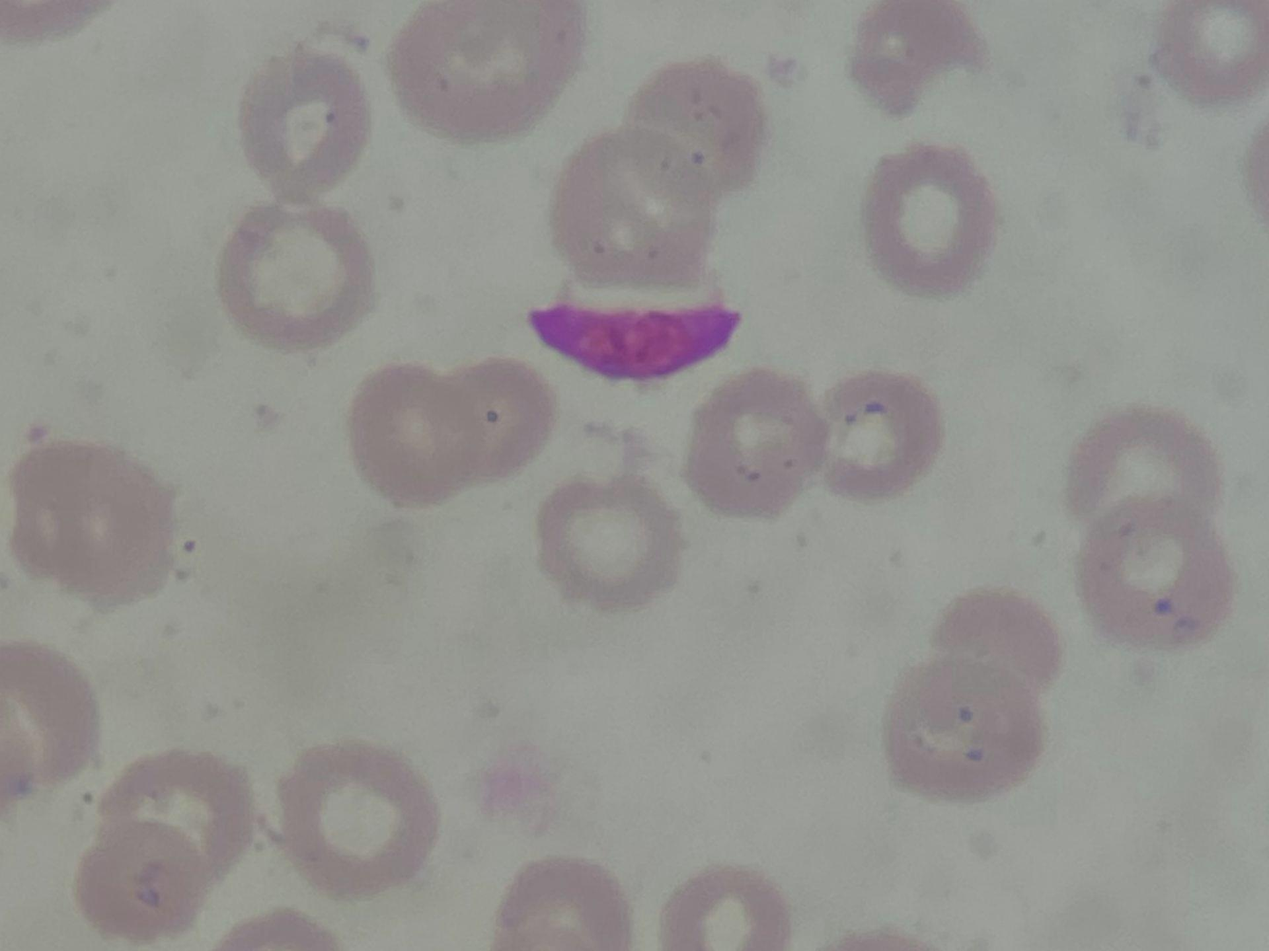Infected: (524, 293, 746, 386)
Uninfected: (10, 438, 182, 609), (390, 0, 582, 145), (274, 739, 434, 898), (552, 126, 711, 283), (216, 205, 381, 349), (1077, 494, 1223, 649), (886, 660, 1044, 802), (97, 749, 258, 885), (684, 367, 829, 516), (1061, 403, 1221, 538), (861, 141, 1000, 295), (628, 57, 766, 206), (539, 476, 683, 616), (235, 57, 372, 203), (349, 362, 481, 509), (815, 365, 944, 497), (426, 354, 556, 479), (76, 825, 216, 940), (934, 592, 1059, 705), (494, 851, 631, 951), (1150, 0, 1269, 107), (661, 859, 791, 951)
